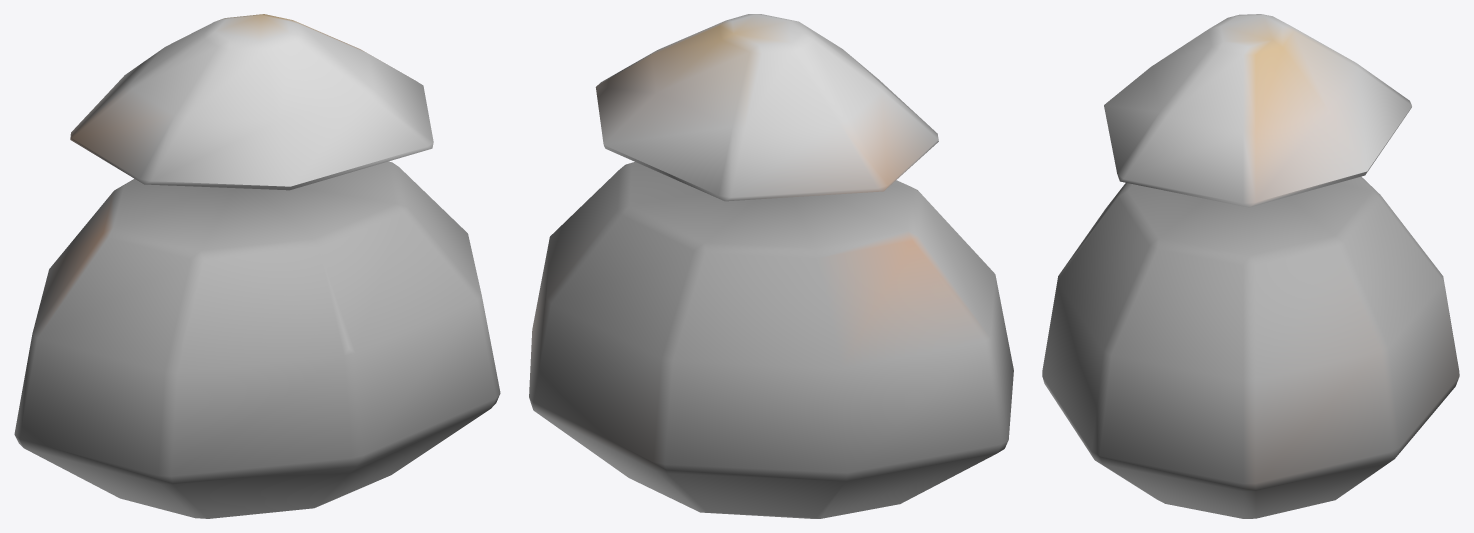
Rendered from boulder_lichen_c.glb.
3 renders of one model, left to right at view 1: azimuth 30°, elevation 25°; view 2: azimuth 150°, elevation 25°; view 3: azimuth 270°, elevation 25°, orthographic. The views are drawn at different scales.
Visible parts, largest first — view 1: BoulderLichen_C; view 2: BoulderLichen_C; view 3: BoulderLichen_C.
Part boxes in pixels (x1,y1,x2,y2): BoulderLichen_C: (14, 14, 500, 518); BoulderLichen_C: (529, 14, 1013, 518); BoulderLichen_C: (1042, 14, 1459, 518).
Bounding box in the file's own units: 3.11 × 2.98 × 2.46.
